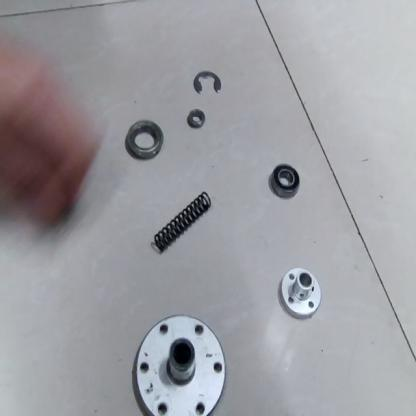FOD: (131, 311, 230, 415), (149, 189, 216, 256), (277, 266, 323, 323), (124, 118, 163, 162), (268, 162, 304, 203), (194, 68, 221, 98), (185, 106, 208, 131)
